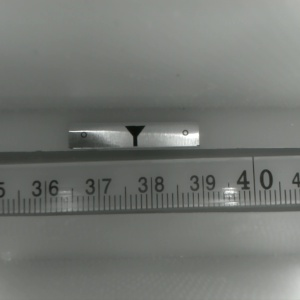0: (259, 169, 273, 190)
3: (30, 180, 41, 197), (189, 175, 200, 191), (137, 177, 147, 193), (84, 179, 94, 194)
4: (237, 170, 251, 190), (291, 172, 300, 187)
6: (47, 180, 58, 195)
7: (101, 178, 112, 194)
8: (153, 176, 164, 192)
9: (205, 175, 215, 191)
finger: (123, 126, 145, 146)
